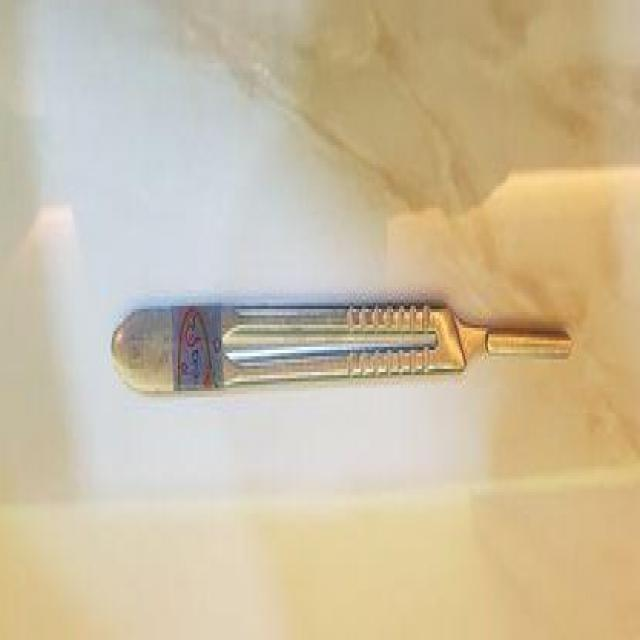Scalpel: (104, 281, 578, 414)
